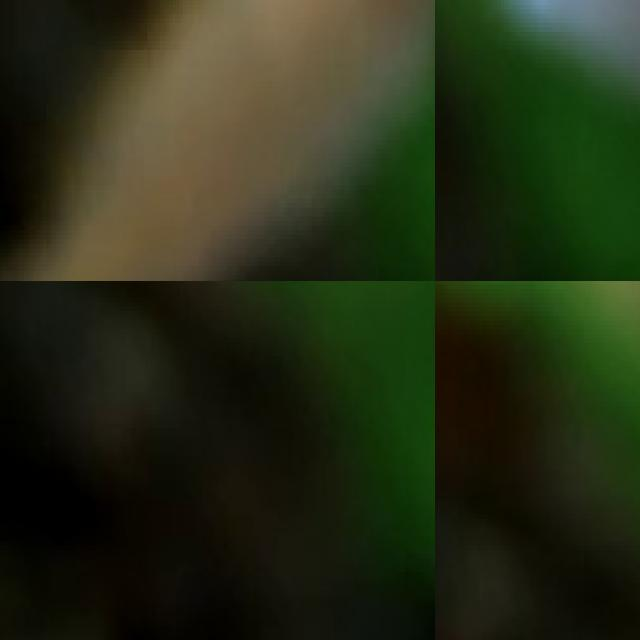fish: (0, 0, 435, 281), (435, 0, 640, 198)
